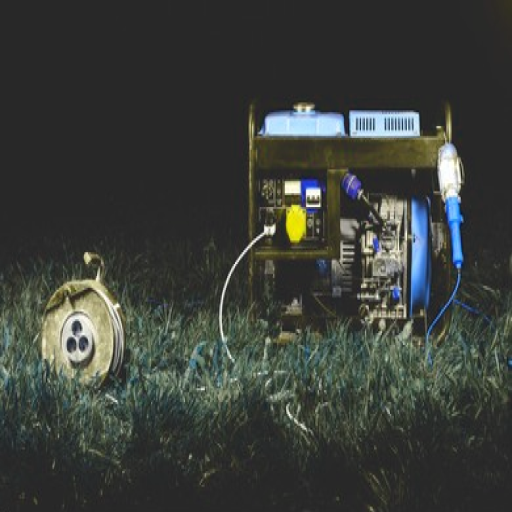portable_generator: (248, 100, 457, 340)
